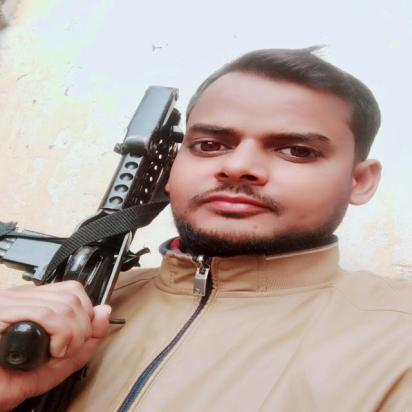Gun: (0, 84, 188, 411)
